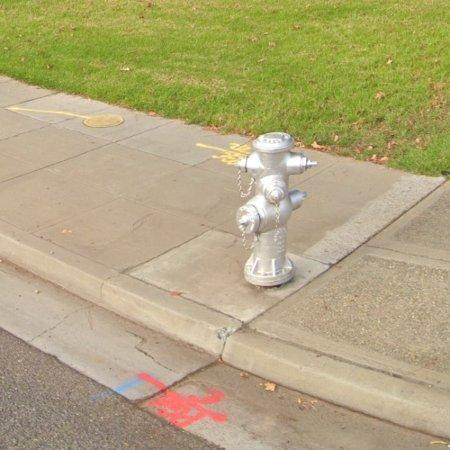a fire hydrant: (237, 132, 318, 287)
